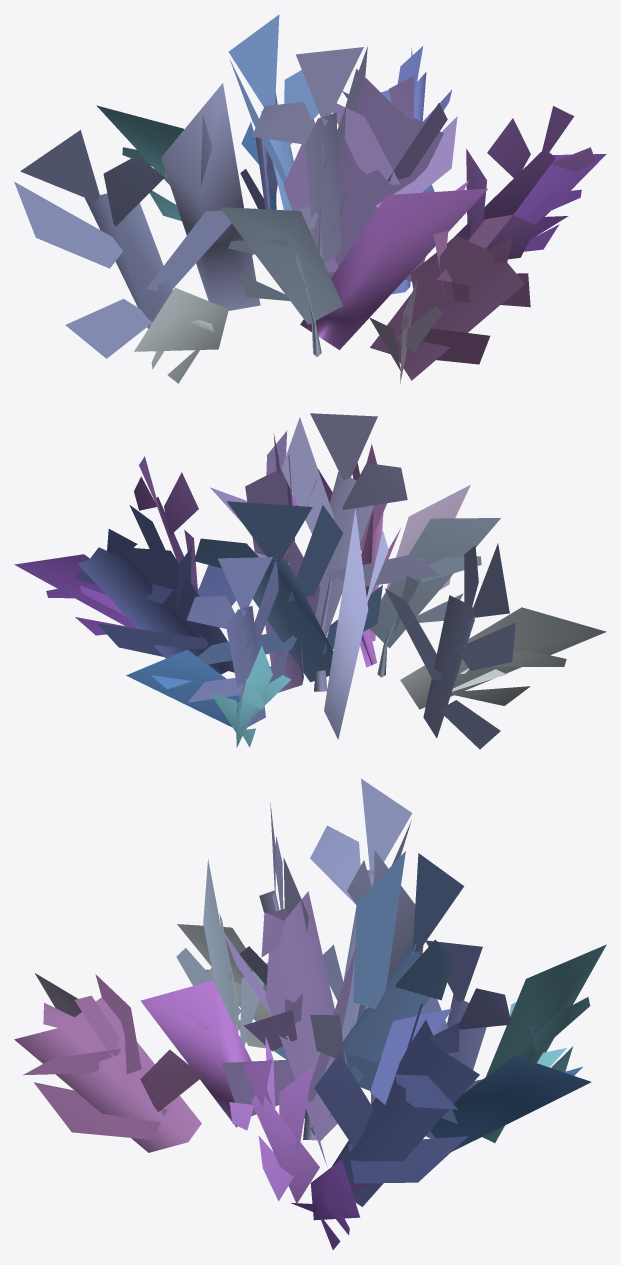
The picture shows the model from 3 angles, top to bottom: view 1: azimuth 30°, elevation 25°; view 2: azimuth 150°, elevation 25°; view 3: azimuth 270°, elevation 25°; orthographic projection. The views are drawn at different scales.
Visible parts, largest first — view 1: SM_BS_WitheredBush_50cm_HD; view 2: SM_BS_WitheredBush_50cm_HD; view 3: SM_BS_WitheredBush_50cm_HD.
Part boxes in pixels (x1,y1,x2,y2): SM_BS_WitheredBush_50cm_HD: (14, 14, 606, 383); SM_BS_WitheredBush_50cm_HD: (14, 413, 606, 749); SM_BS_WitheredBush_50cm_HD: (14, 778, 606, 1249).
Size of the model in its own units: 43.86 by 52.19 by 26.49.
